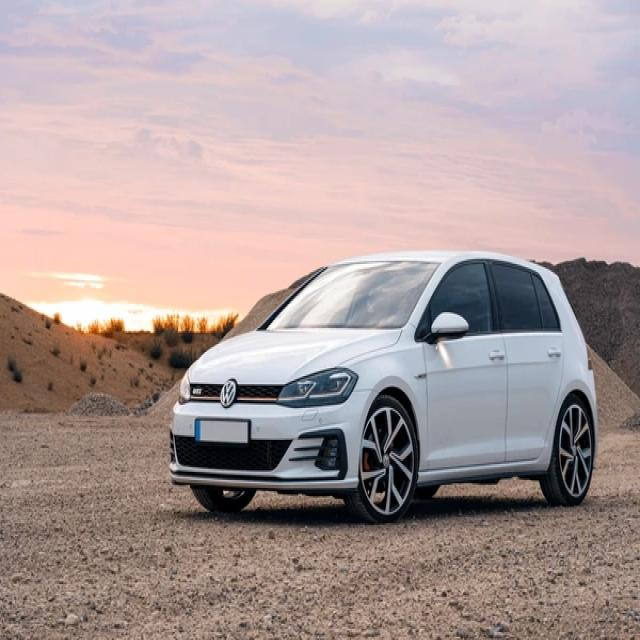wolksvogen: (220, 378, 238, 408)
